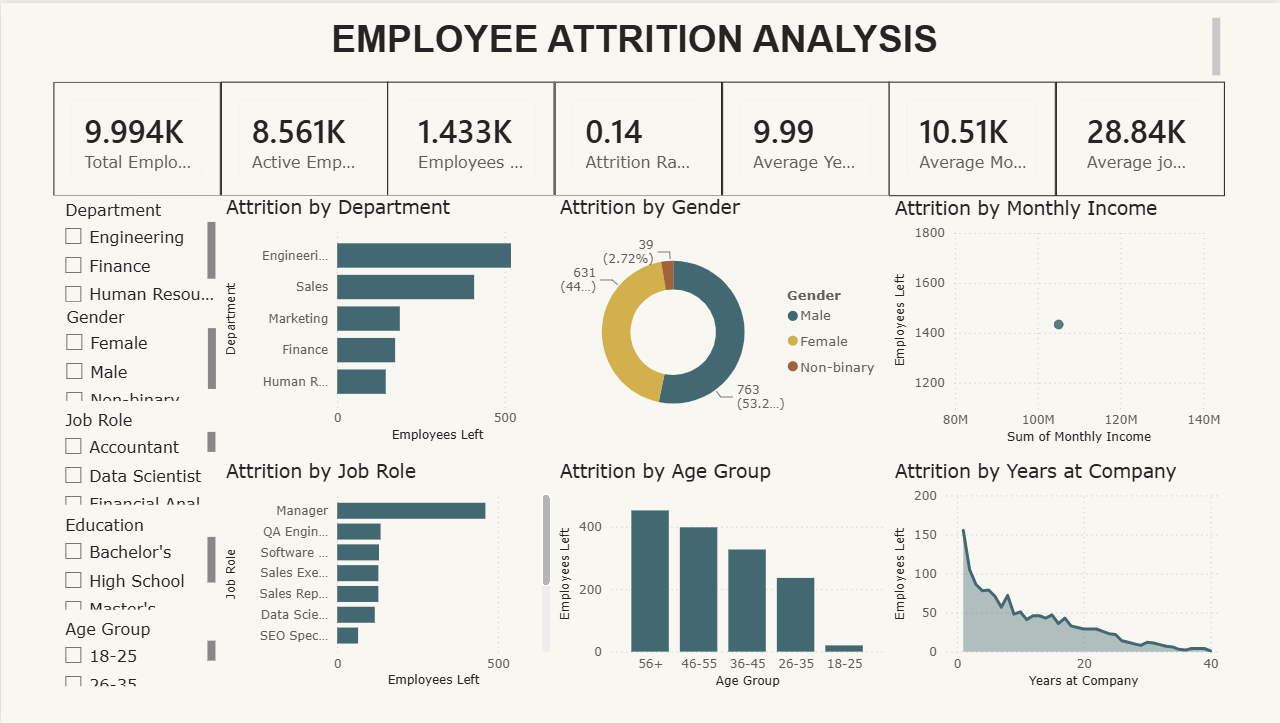

The page's visual inventory and layout, read from the dashboard file:
{"tool":"powerbi","page":{"name":"EMPLOYEE ATTRITION ANALYSIS","canvas":[1280,720],"ordinal":3},"visuals":[{"type":"cardVisual","fields":{"Data":["HR.Total Employees"]},"box":[52.4,78.6,167.1,114.3],"z":0},{"type":"textbox","box":[51.4,10,1172.9,68.6],"z":1000},{"type":"cardVisual","fields":{"Data":["HR.Average Monthly Salary"]},"box":[888.1,78.6,167.1,114.3],"z":2000},{"type":"cardVisual","fields":{"Data":["HR.Average Years at Company"]},"box":[721,78.6,167.1,114.3],"z":3000},{"type":"cardVisual","fields":{"Data":["HR.Active Employees"]},"box":[219.5,78.6,167.1,114.3],"z":4000},{"type":"cardVisual","fields":{"Data":["HR.Employees Left"]},"box":[386.7,78.6,167.1,114.3],"z":5000},{"type":"cardVisual","fields":{"Data":["HR.Attrition Rate"]},"box":[553.8,78.6,167.1,114.3],"z":6000},{"type":"cardVisual","fields":{"Data":["Sum(HR.Job Satisfaction)"]},"box":[1055.2,78.6,168.6,114.3],"z":7000},{"type":"donutChart","title":"Attrition by Gender","fields":{"Category":["HR.Gender"],"Y":["HR.Employees Left"]},"box":[554.3,192.9,334.3,251.4],"z":9000},{"type":"slicer","fields":{"Values":["HR.Department"]},"box":[51.4,192.9,168.6,122.9],"z":11000},{"type":"slicer","fields":{"Values":["HR.Gender"]},"box":[52.9,298.6,167.1,104.3],"z":12000},{"type":"slicer","fields":{"Values":["HR.Job Role"]},"box":[51.4,402.9,168.6,104.3],"z":13000},{"type":"slicer","fields":{"Values":["HR.Education"]},"box":[51.4,507.1,168.6,104.3],"z":14000},{"type":"slicer","fields":{"Values":["HR.Age Group"]},"box":[51.4,611.4,168.6,77.1],"z":15000},{"type":"scatterChart","title":"Attrition by Monthly Income","fields":{"X":["Sum(HR.Monthly Income)"],"Y":["HR.Employees Left"]},"box":[888.6,194.3,335.7,251.4],"z":16000},{"type":"clusteredBarChart","title":"Attrition by Department","fields":{"Category":["HR.Department"],"Y":["HR.Employees Left"]},"box":[220,192.9,334.3,251.4],"z":18001},{"type":"barChart","title":"Attrition by Job Role","fields":{"Category":["HR.Job Role"],"Y":["HR.Employees Left"]},"box":[220,455.7,334.3,232.9],"z":18002},{"type":"columnChart","title":"Attrition by Age Group","fields":{"Category":["HR.Age Group"],"Y":["HR.Employees Left"]},"box":[554,456,334,233],"z":18003},{"type":"stackedAreaChart","title":"Attrition by Years at Company","fields":{"Y":["HR.Employees Left"],"Category":["HR.Years at Company"]},"box":[889,456,336,233],"z":18004}]}

Visuals, with their boxes in screenshot pixels (x1, y1, x2, y2), scaled from the page's 1280x720 canvas onto the 1280x723 screenshot:
cardVisual - HR.Total Employees: Rect(52, 79, 220, 194)
textbox: Rect(51, 10, 1224, 79)
cardVisual - HR.Average Monthly Salary: Rect(888, 79, 1055, 194)
cardVisual - HR.Average Years at Company: Rect(721, 79, 888, 194)
cardVisual - HR.Active Employees: Rect(220, 79, 387, 194)
cardVisual - HR.Employees Left: Rect(387, 79, 554, 194)
cardVisual - HR.Attrition Rate: Rect(554, 79, 721, 194)
cardVisual - Sum(HR.Job Satisfaction): Rect(1055, 79, 1224, 194)
"Attrition by Gender" donutChart: Rect(554, 194, 889, 446)
slicer - HR.Department: Rect(51, 194, 220, 317)
slicer - HR.Gender: Rect(53, 300, 220, 405)
slicer - HR.Job Role: Rect(51, 405, 220, 509)
slicer - HR.Education: Rect(51, 509, 220, 614)
slicer - HR.Age Group: Rect(51, 614, 220, 691)
"Attrition by Monthly Income" scatterChart: Rect(889, 195, 1224, 448)
"Attrition by Department" clusteredBarChart: Rect(220, 194, 554, 446)
"Attrition by Job Role" barChart: Rect(220, 458, 554, 691)
"Attrition by Age Group" columnChart: Rect(554, 458, 888, 692)
"Attrition by Years at Company" stackedAreaChart: Rect(889, 458, 1225, 692)
